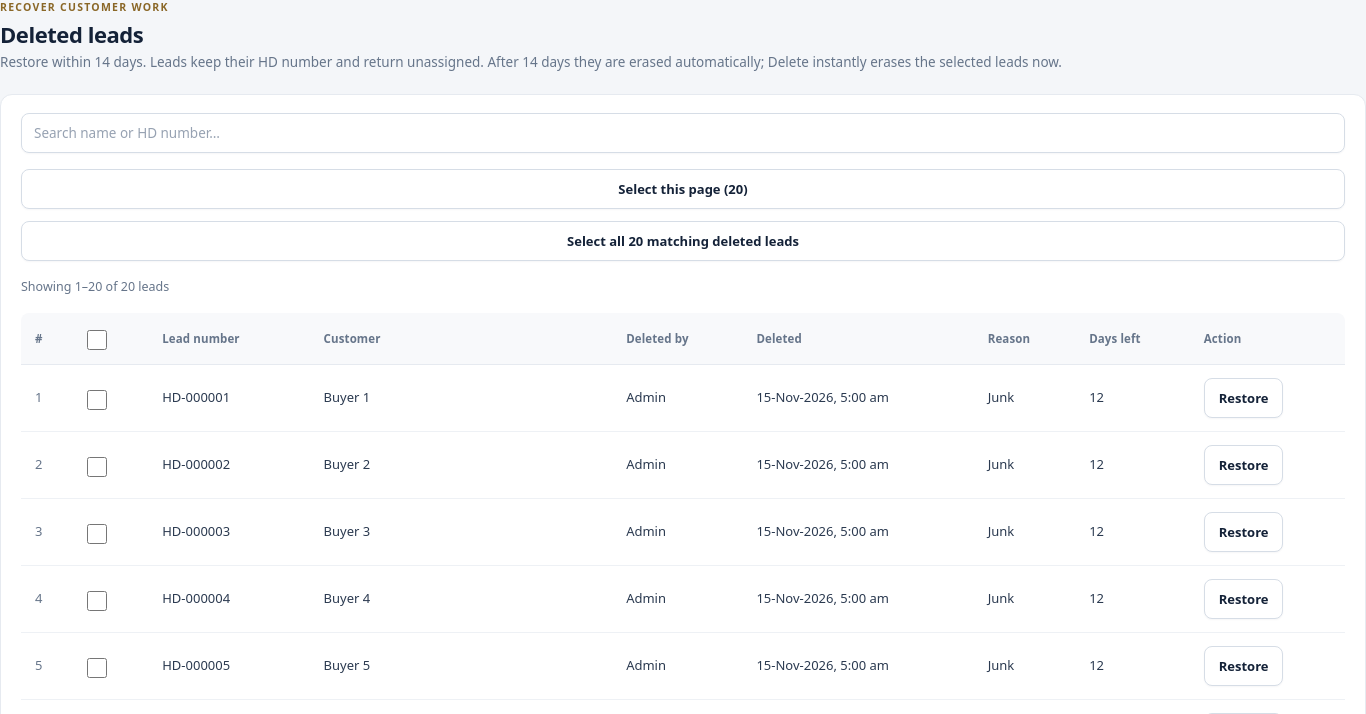
Delete instantly for many leads (update 071) › checks again after a failed request instead of guessing
Click the button "Select all 20 matching deleted leads" at x=683, y=241, box [21,221,1345,261]
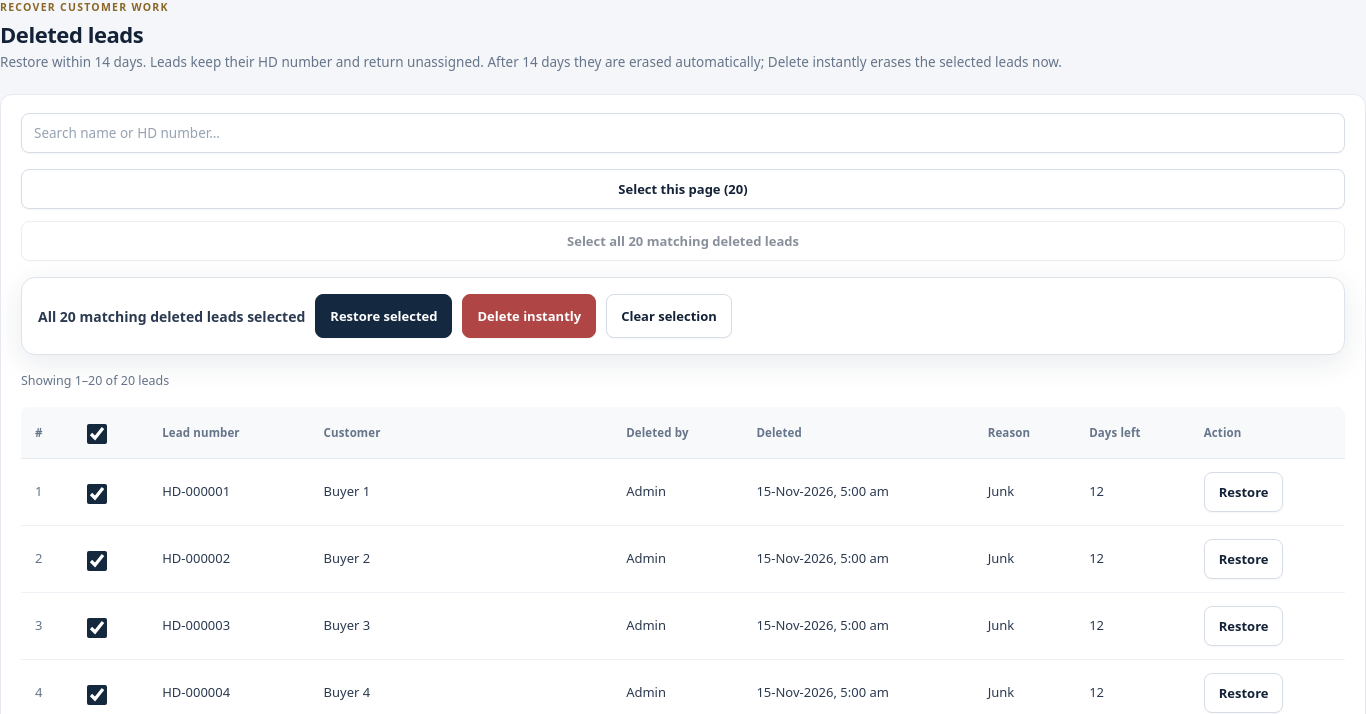
Click the button "Delete instantly" at x=529, y=316, box [462,294,596,338]
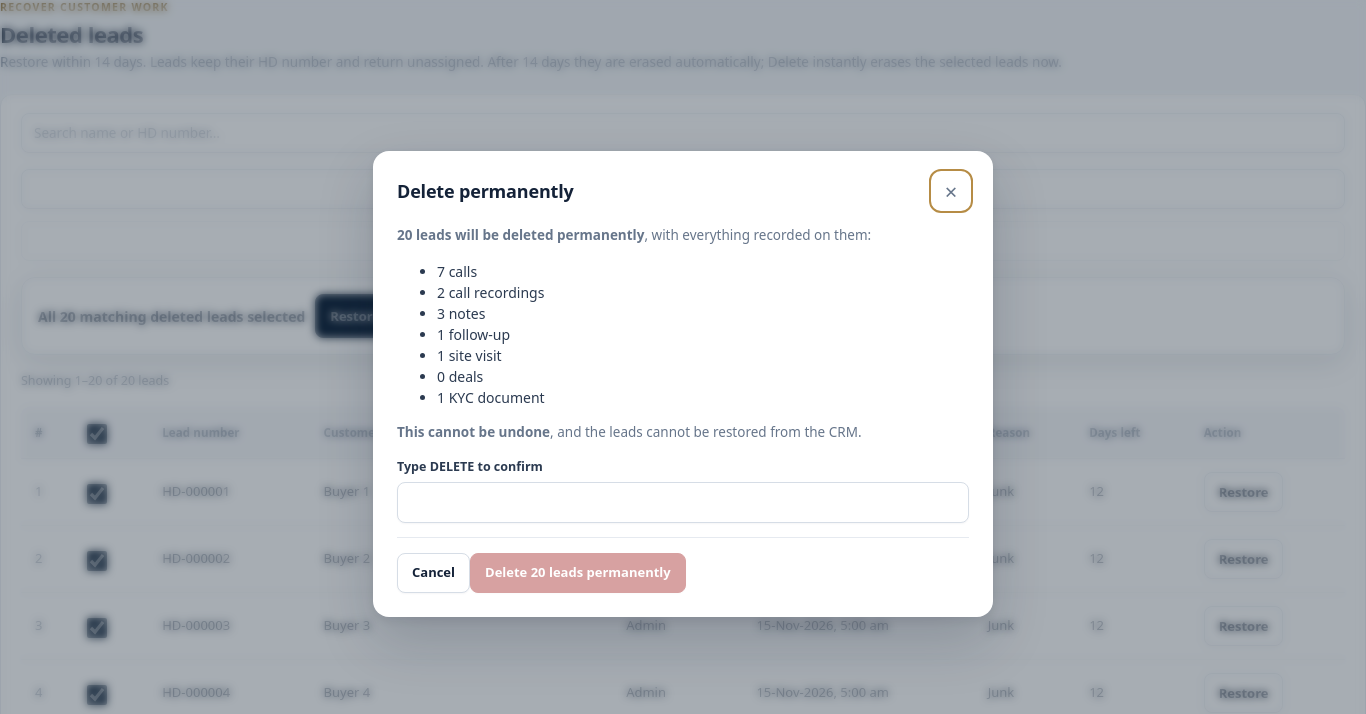
Result: the text "20 leads will be deleted permanently" is shown at [397,226,644,244]
Type "DELETE" into the field labelled "Type DELETE to confirm" at x=683, y=502, box [397,482,969,523]
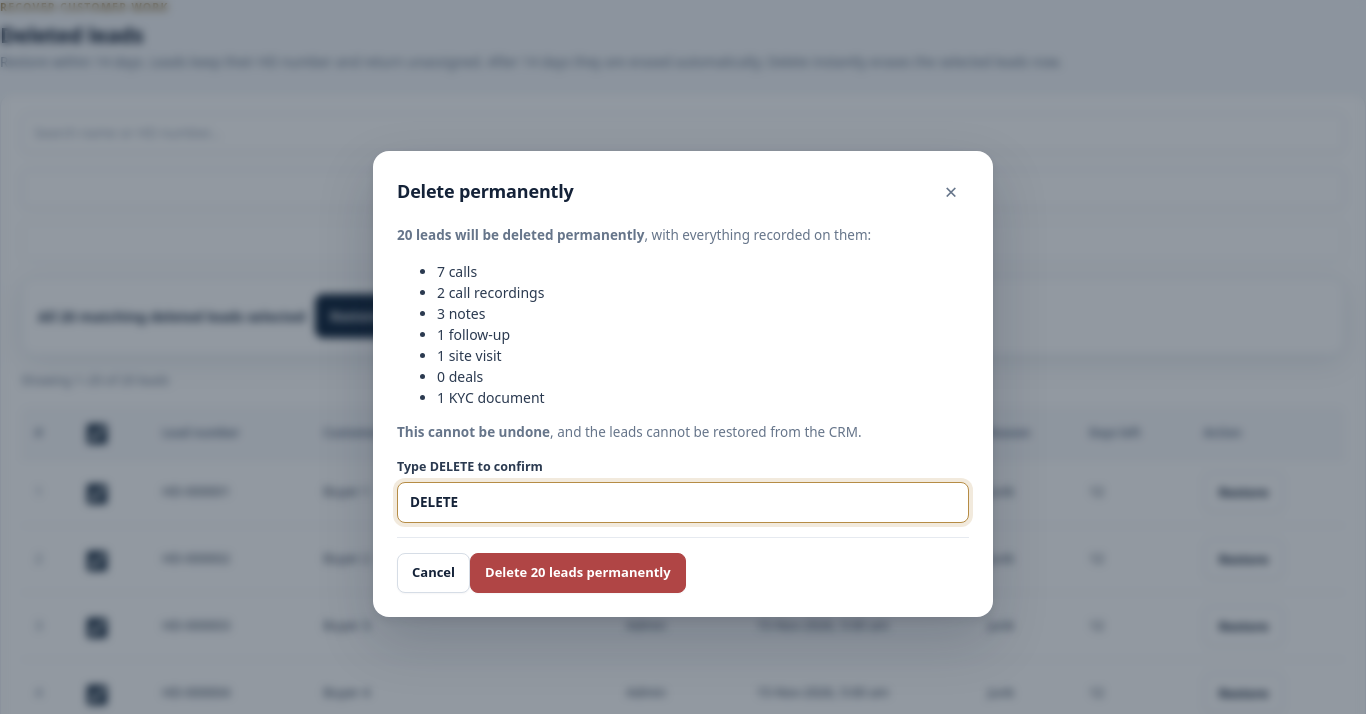
Click the button "Delete 20 leads permanently" at x=578, y=573, box [470,553,686,593]
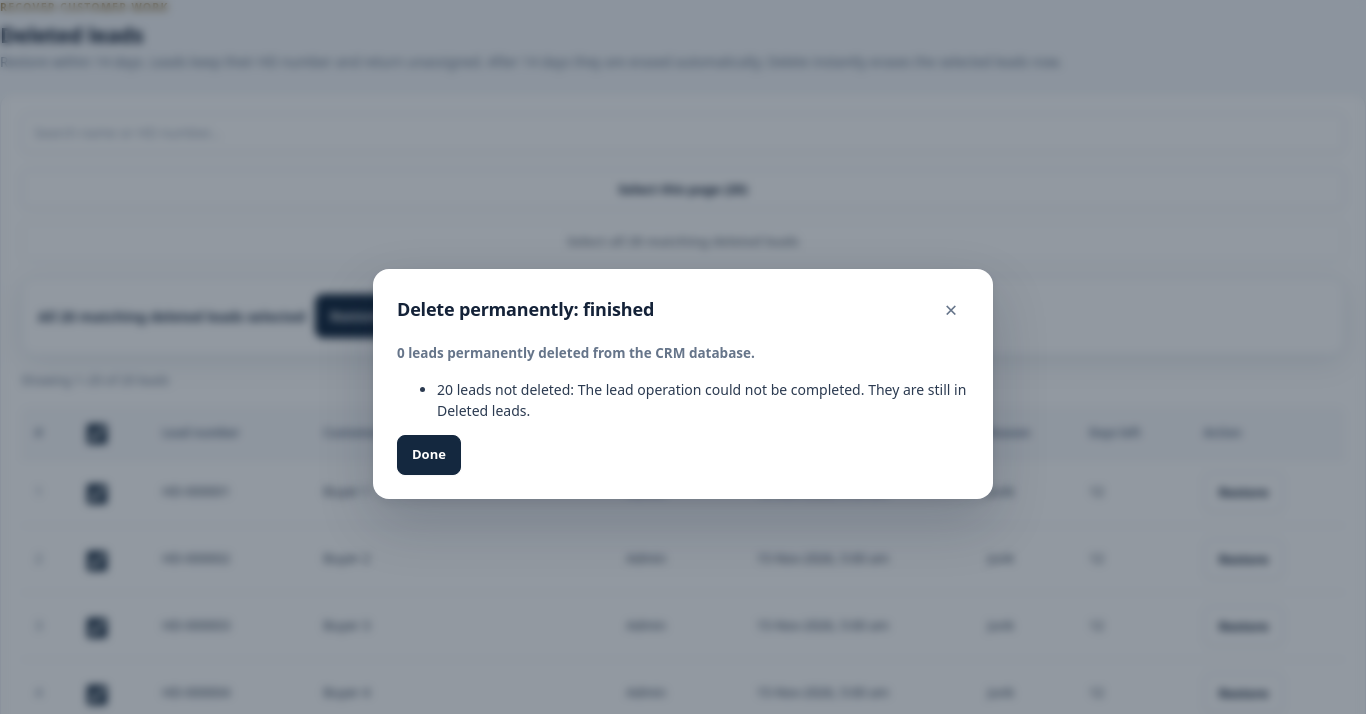
Result: the dialog "Delete permanently: finished" shows "0 leads permanently deleted from the CRM database." at [373,269,993,499]
Result: the dialog "Delete permanently: finished" shows "20 leads not deleted: The lead operation could not be completed. They are still in Deleted leads." at [373,269,993,499]
